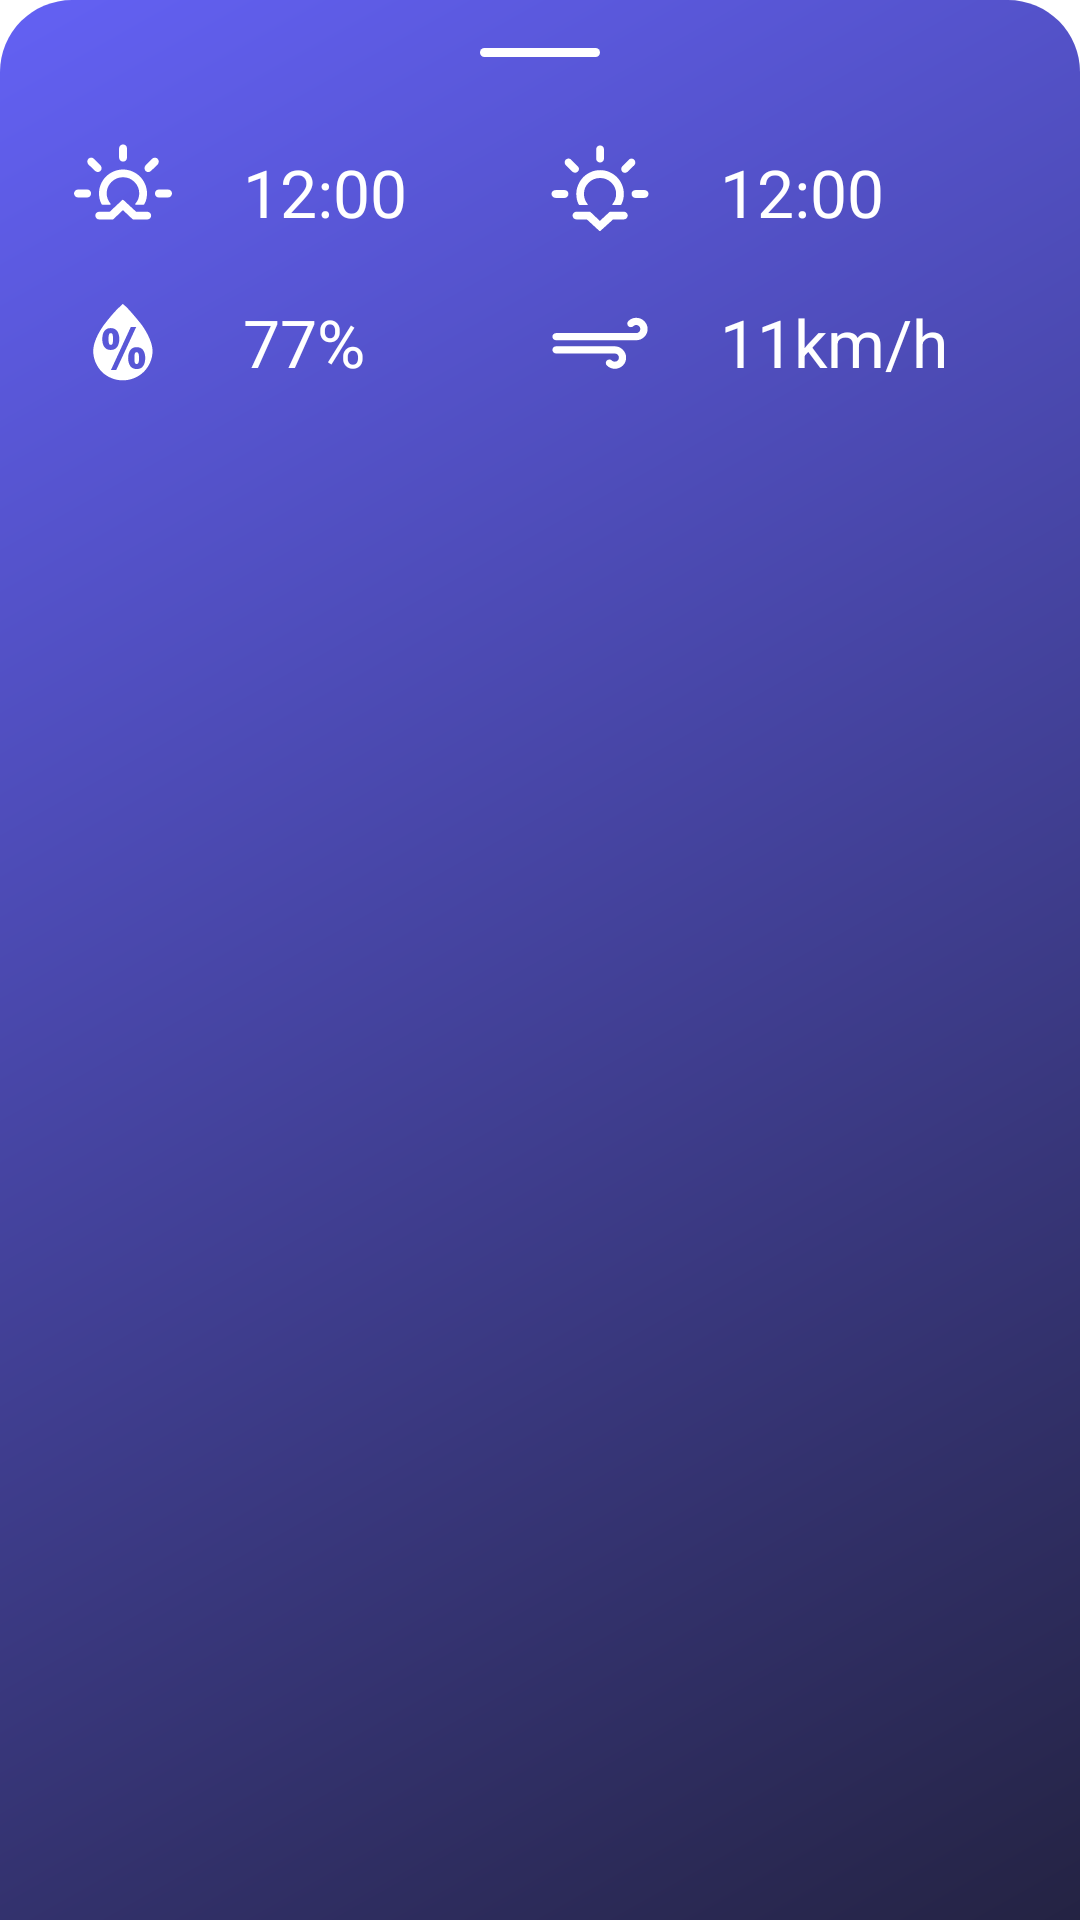

Icon click points for this 1080px×1920px phone screenshot, format (x,y):
wi humidity: (123,342)
wi strong wind: (600,343)
wi sunrise: (123,182)
wi sunset: (600,188)
